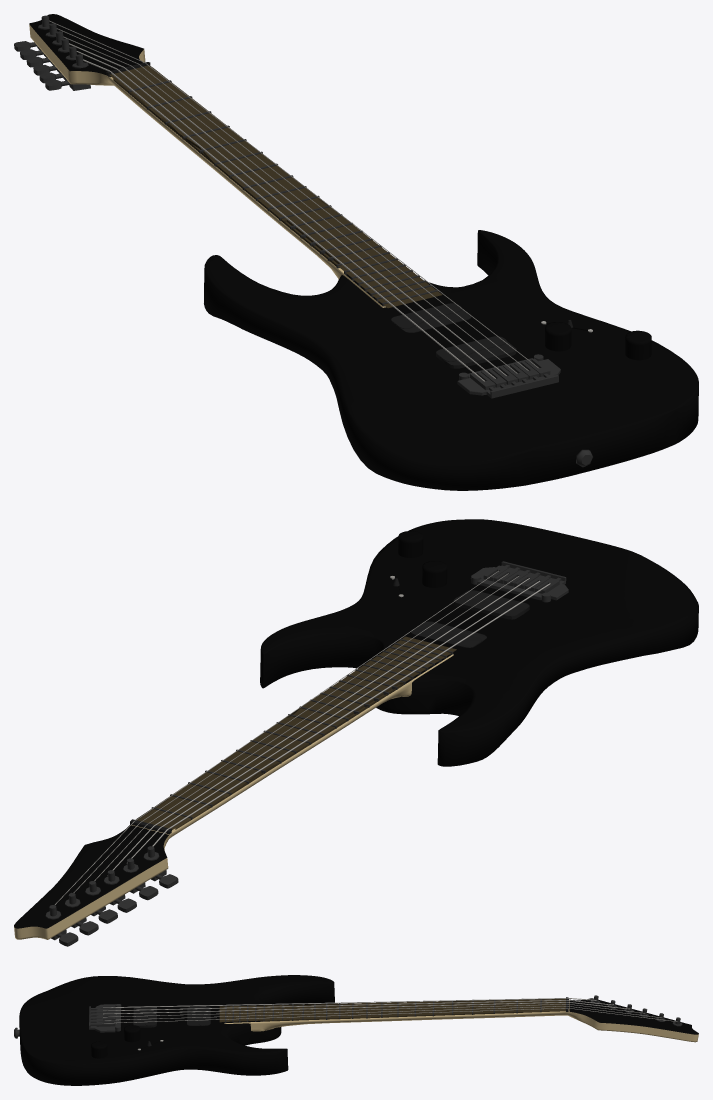
3 views of the same model, one above another, from view 1: azimuth 30°, elevation 25°; view 2: azimuth 150°, elevation 25°; view 3: azimuth 270°, elevation 25° (orthographic). The views are drawn at different scales.
Visible parts, largest first — view 1: body/hand, escala, metalics 2, metalics, plastic, metalics_02 - Default_0.001, braco1; view 2: body/hand, escala, metalics, metalics 2, braco1, plastic, metalics_02 - Default_0.001; view 3: body/hand, escala, metalics 2, braco1, metalics, plastic, metalics_02 - Default_0.001.
Boxes of the visible parts, box(x1,y1,x2,y2) form: body/hand: box(29, 14, 698, 490); escala: box(109, 65, 442, 308); metalics 2: box(49, 20, 592, 381); metalics: box(14, 15, 438, 306); plastic: box(106, 62, 572, 368); metalics_02 - Default_0.001: box(457, 354, 592, 467); braco1: box(29, 24, 385, 307); body/hand: box(14, 519, 698, 928); escala: box(135, 636, 456, 829); metalics: box(45, 638, 453, 946); metalics 2: box(55, 570, 550, 904); braco1: box(14, 654, 453, 939); plastic: box(130, 578, 529, 834); metalics_02 - Default_0.001: box(470, 561, 568, 602); body/hand: box(19, 975, 698, 1085); escala: box(219, 999, 565, 1022); metalics 2: box(103, 998, 677, 1050); braco1: box(224, 1001, 698, 1042); metalics: box(225, 995, 682, 1026); plastic: box(133, 997, 568, 1046); metalics_02 - Default_0.001: box(14, 1004, 121, 1038).
Bounding box in the file's own units: 0.4321 × 0.0939 × 1.37.
